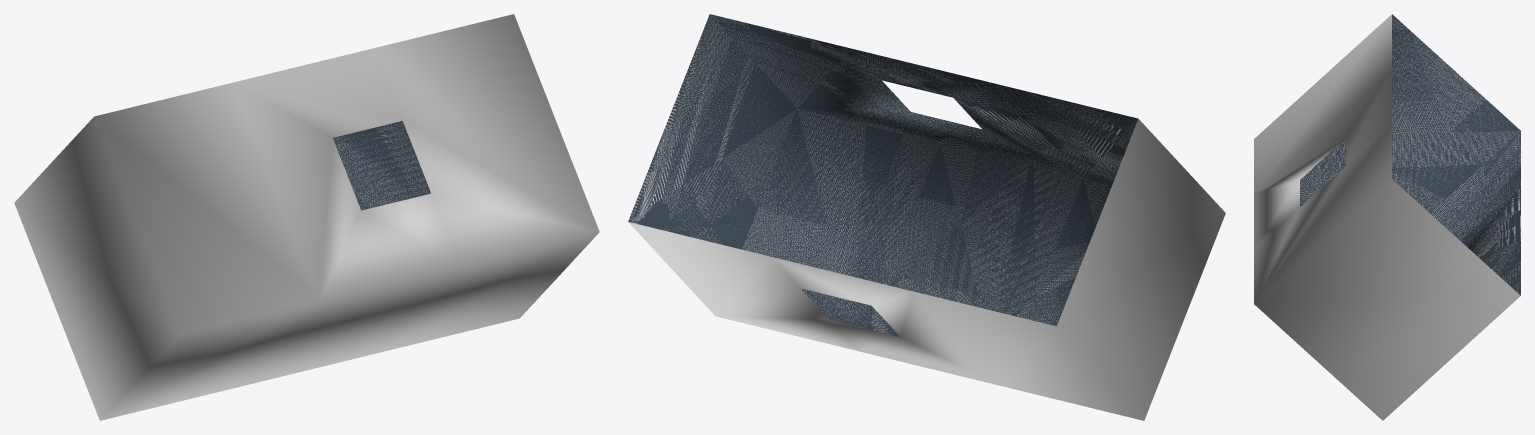
File: original-11.obj
The picture shows the model from 3 angles, left to right: view 1: azimuth 30°, elevation 25°; view 2: azimuth 150°, elevation 25°; view 3: azimuth 270°, elevation 25°; orthographic projection. The views are drawn at different scales.
Visible parts, largest first — view 1: 3dw.547ad62bd93988fff0117851f0671fde/Model/mesh1/mesh1-geometry/; view 2: 3dw.547ad62bd93988fff0117851f0671fde/Model/mesh1/mesh1-geometry/; view 3: 3dw.547ad62bd93988fff0117851f0671fde/Model/mesh1/mesh1-geometry/.
Boxes of the visible parts, x1,y1,x2,y2 form: 3dw.547ad62bd93988fff0117851f0671fde/Model/mesh1/mesh1-geometry/: [14, 14, 599, 420]; 3dw.547ad62bd93988fff0117851f0671fde/Model/mesh1/mesh1-geometry/: [628, 14, 1225, 420]; 3dw.547ad62bd93988fff0117851f0671fde/Model/mesh1/mesh1-geometry/: [1254, 14, 1520, 420].
Size of the model in its own units: 0.068 by 0.0465 by 0.0465.
